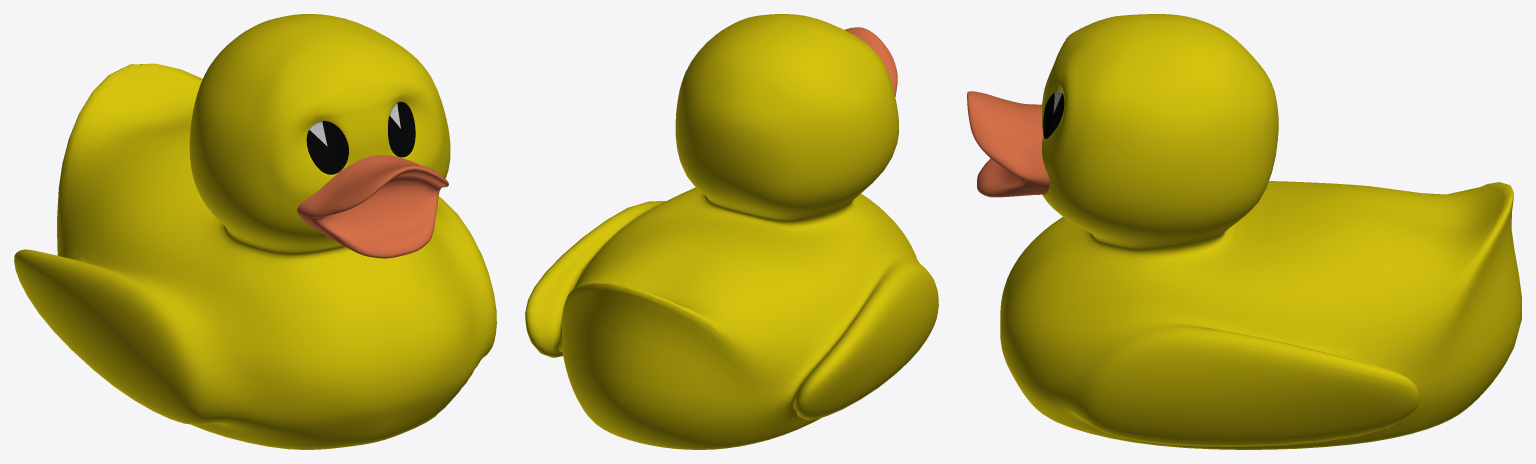
The model's file is quietscheEntchen.fbx.
The picture shows the model from 3 angles, left to right: view 1: azimuth 30°, elevation 25°; view 2: azimuth 150°, elevation 25°; view 3: azimuth 270°, elevation 25°; orthographic projection. The views are drawn at different scales.
Visible parts, largest first — view 1: Body, Beak; view 2: Body, Beak; view 3: Body, Beak.
Part boxes in pixels (left/top/right/bottom): Body: left=14, top=14, right=496, bottom=449; Beak: left=297, top=155, right=448, bottom=258; Body: left=525, top=14, right=938, bottom=449; Beak: left=845, top=27, right=897, bottom=96; Body: left=1000, top=14, right=1521, bottom=449; Beak: left=967, top=91, right=1049, bottom=197.
Bounding box in the file's own units: 309 × 301 × 417.
